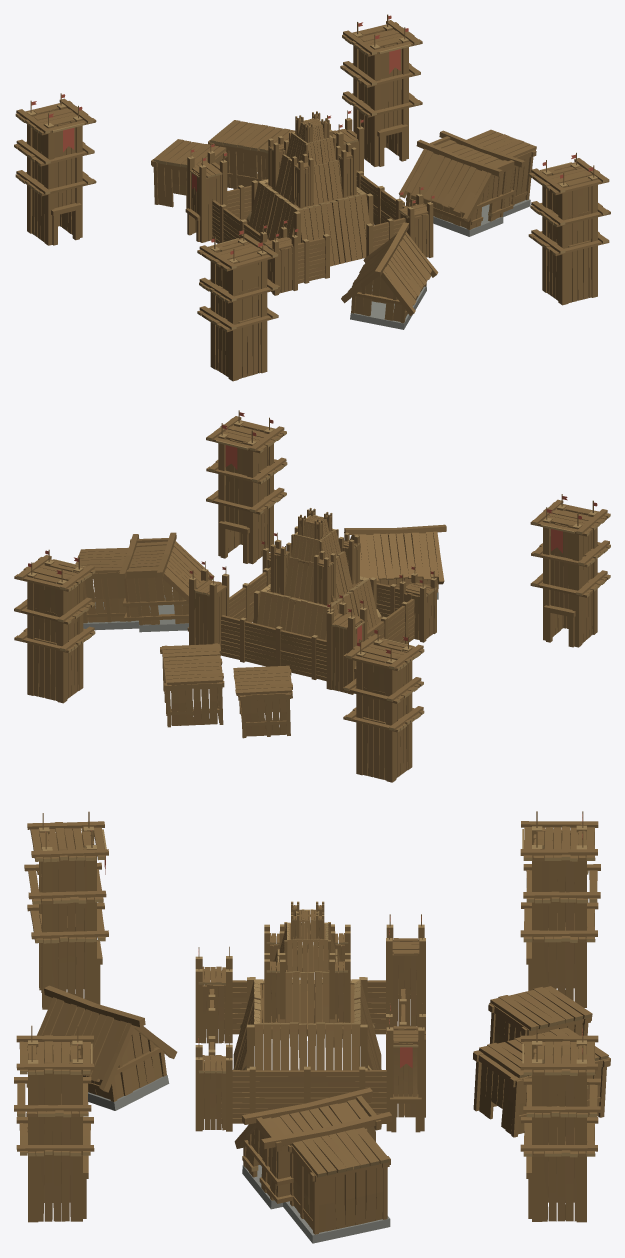
Rendered from BaseCity_1.fbx.
3 renders of one model, top to bottom at view 1: azimuth 30°, elevation 25°; view 2: azimuth 150°, elevation 25°; view 3: azimuth 270°, elevation 25°, orthographic. The views are drawn at different scales.
Visible parts, largest first — view 1: Wonder_FirstAge_Level3, Houses_FirstAge_2_Level3, WatchTower_FirstAge_Level3, WatchTower_FirstAge_Level3.002, WatchTower_FirstAge_Level3.001, WatchTower_FirstAge_Level3.003, Houses_FirstAge_1_Level3, Houses_FirstAge_3_Level3; view 2: Wonder_FirstAge_Level3, Houses_FirstAge_2_Level3, WatchTower_FirstAge_Level3.003, WatchTower_FirstAge_Level3.001, Houses_FirstAge_3_Level3, WatchTower_FirstAge_Level3.002, WatchTower_FirstAge_Level3, Houses_FirstAge_1_Level3; view 3: Wonder_FirstAge_Level3, Houses_FirstAge_2_Level3, WatchTower_FirstAge_Level3.003, WatchTower_FirstAge_Level3.002, WatchTower_FirstAge_Level3, WatchTower_FirstAge_Level3.001, Houses_FirstAge_3_Level3, Houses_FirstAge_1_Level3.
Boxes of the visible parts, left/top/right/bottom form: Wonder_FirstAge_Level3: left=185, top=110, right=434, bottom=295; Houses_FirstAge_2_Level3: left=398, top=129, right=536, bottom=236; WatchTower_FirstAge_Level3: left=197, top=228, right=280, bottom=381; WatchTower_FirstAge_Level3.002: left=528, top=152, right=610, bottom=305; WatchTower_FirstAge_Level3.001: left=14, top=93, right=96, bottom=245; WatchTower_FirstAge_Level3.003: left=340, top=14, right=422, bottom=166; Houses_FirstAge_1_Level3: left=341, top=222, right=438, bottom=329; Houses_FirstAge_3_Level3: left=151, top=120, right=295, bottom=208; Wonder_FirstAge_Level3: left=187, top=508, right=436, bottom=694; Houses_FirstAge_2_Level3: left=75, top=532, right=214, bottom=632; WatchTower_FirstAge_Level3.003: left=14, top=549, right=95, bottom=703; WatchTower_FirstAge_Level3.001: left=343, top=629, right=424, bottom=782; Houses_FirstAge_3_Level3: left=160, top=643, right=292, bottom=738; WatchTower_FirstAge_Level3.002: left=206, top=410, right=287, bottom=564; WatchTower_FirstAge_Level3: left=530, top=494, right=610, bottom=647; Houses_FirstAge_1_Level3: left=344, top=524, right=446, bottom=599; Wonder_FirstAge_Level3: left=195, top=901, right=425, bottom=1132; Houses_FirstAge_2_Level3: left=234, top=1087, right=392, bottom=1243; WatchTower_FirstAge_Level3.003: left=520, top=1025, right=600, bottom=1222; WatchTower_FirstAge_Level3.002: left=14, top=1025, right=94, bottom=1222; WatchTower_FirstAge_Level3: left=24, top=811, right=108, bottom=1009; WatchTower_FirstAge_Level3.001: left=520, top=811, right=600, bottom=1007; Houses_FirstAge_3_Level3: left=473, top=986, right=610, bottom=1137; Houses_FirstAge_1_Level3: left=37, top=985, right=177, bottom=1110.
Size of the model in its own units: 1.1 by 0.3652 by 1.01.
